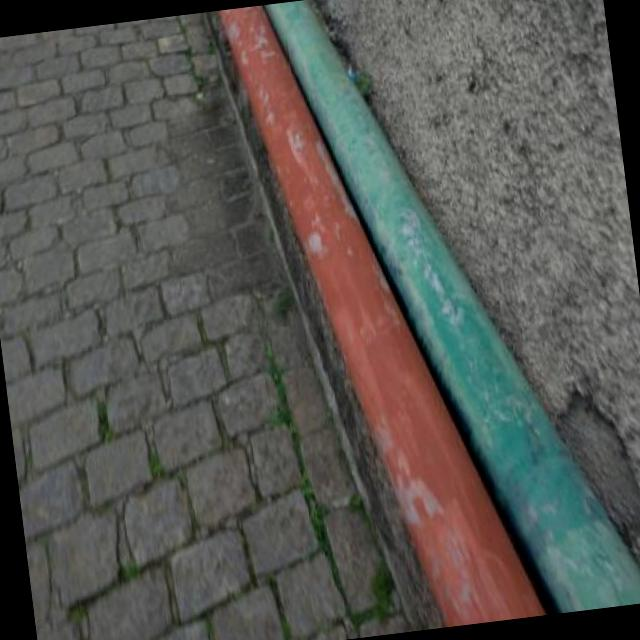gas: (267, 0, 640, 613), (218, 5, 547, 626)
